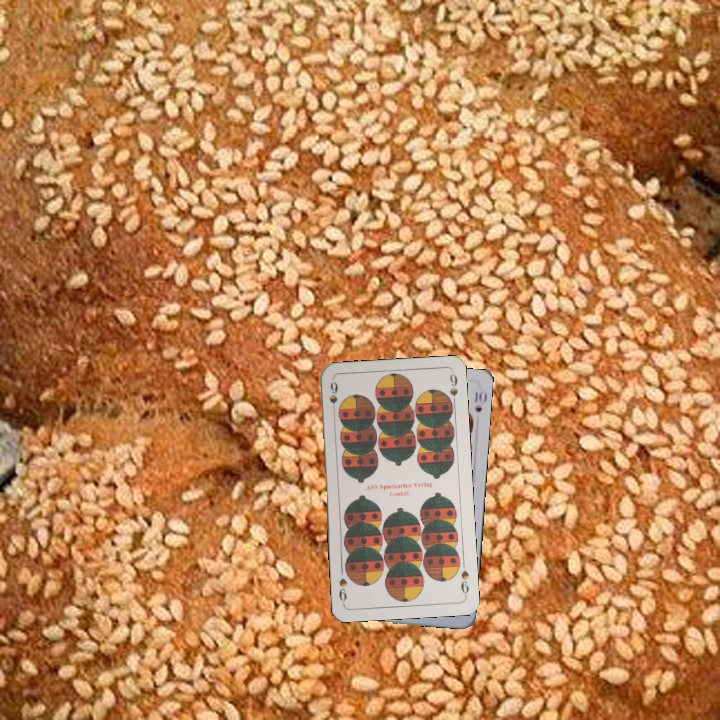S9: (326, 377, 340, 418), (457, 566, 472, 599)
